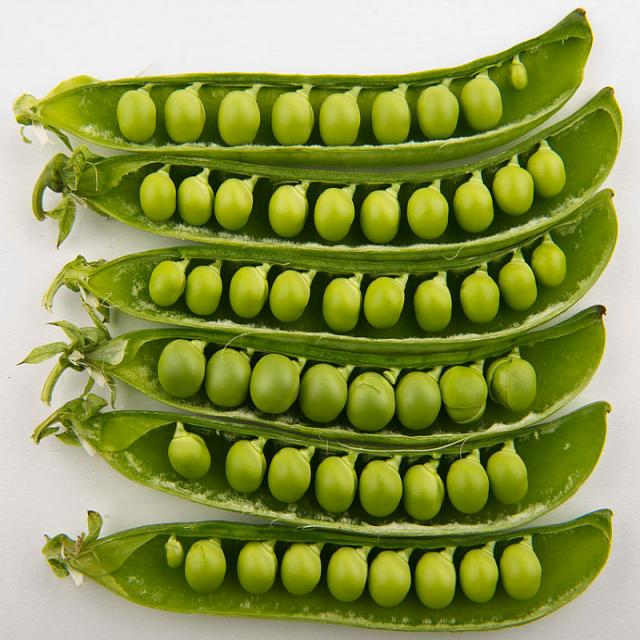Peas: (127, 149, 583, 243), (152, 340, 542, 427), (140, 254, 564, 330), (152, 437, 539, 519), (166, 536, 553, 611), (108, 65, 514, 131)
